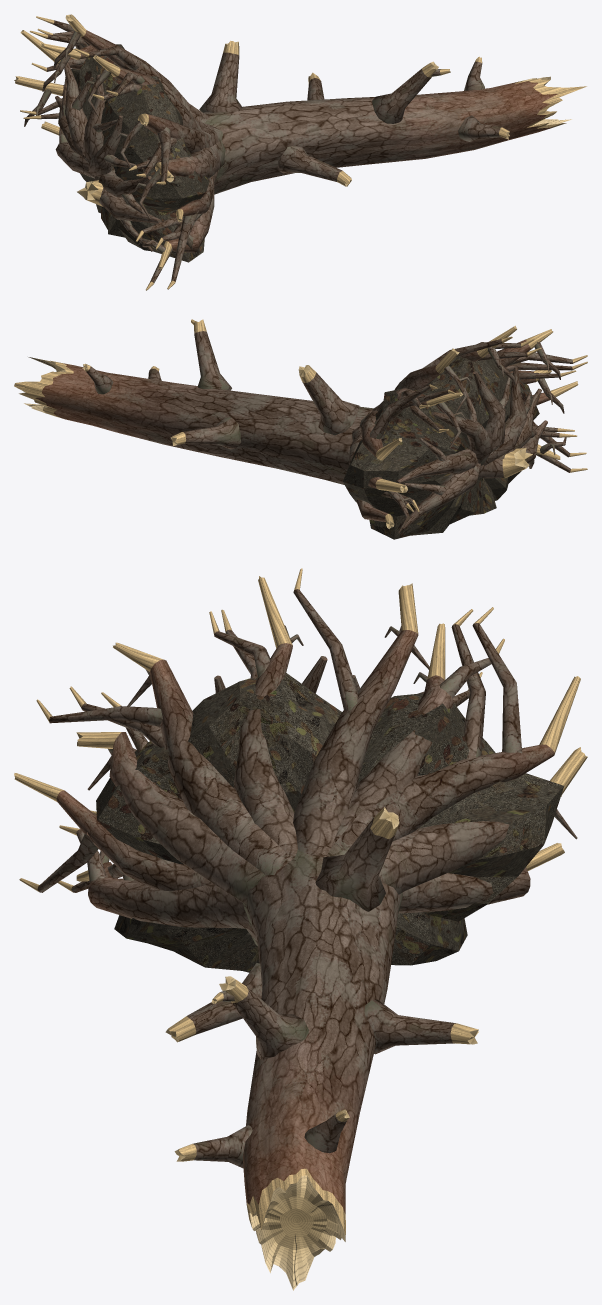
File: fallen_tree.glb
The picture shows the model from 3 angles, top to bottom: view 1: azimuth 30°, elevation 25°; view 2: azimuth 150°, elevation 25°; view 3: azimuth 270°, elevation 25°; orthographic projection. The views are drawn at different scales.
Parts seen in each view (by area): view 1: Fallen_Pine; view 2: Fallen_Pine; view 3: Fallen_Pine.
Part boxes in pixels (x1,y1,x2,y2): Fallen_Pine: (14, 14, 586, 290); Fallen_Pine: (14, 319, 587, 539); Fallen_Pine: (14, 568, 587, 1290).
Bounding box in the file's own units: 4.91 × 1.81 × 2.87.
4 materials, 4 textured.
